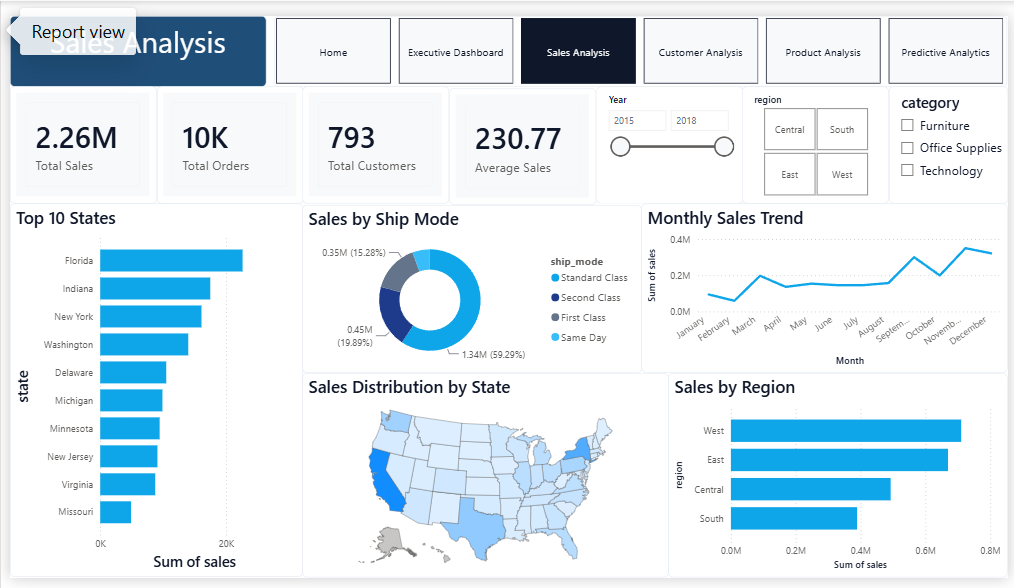

The dashboard page shown, as its layout file describes it:
{"tool":"powerbi","page":{"name":"Sales Analysis","canvas":[1280,720],"ordinal":2},"visuals":[{"type":"textbox","box":[0,0,328.6,90.9],"z":0},{"type":"pageNavigator","box":[339.2,0,940.3,90.9],"z":1000},{"type":"cardVisual","fields":{"Data":["public orders.Total Sales"]},"box":[0,90.9,187.8,149.9],"z":2000},{"type":"cardVisual","fields":{"Data":["public orders.Total Orders"]},"box":[187.8,90.9,187.8,149.9],"z":3000},{"type":"cardVisual","fields":{"Data":["public orders.Total Customers"]},"box":[375.5,90.9,187.8,149.9],"z":4000},{"type":"cardVisual","fields":{"Data":["public orders.Average Sales"]},"box":[563.3,92.4,187.8,149.9],"z":5000},{"type":"slicer","fields":{"Values":["public orders.order_date.Variation.Date Hierarchy.Year"]},"box":[751,90.9,187.8,149.9],"z":6000},{"type":"slicer","fields":{"Values":["public orders.region"]},"box":[938.8,90.9,187.8,149.9],"z":7000},{"type":"slicer","fields":{"Values":["public orders.category"]},"box":[1126.6,90.9,152.9,149.9],"z":8000},{"type":"clusteredBarChart","title":"Sales by Region","fields":{"Category":["public orders.region"],"Y":["Sum(public orders.sales)"]},"box":[844.9,457.3,434.6,262],"z":9000},{"type":"donutChart","title":"Sales by Ship Mode","fields":{"Category":["public orders.ship_mode"],"Y":["Sum(public orders.sales)"]},"box":[375.5,242.3,434.6,215],"z":10000},{"type":"lineChart","title":"Monthly Sales Trend","fields":{"Category":["public orders.order_date.Variation.Date Hierarchy.Month"],"Y":["Sum(public orders.sales)"]},"box":[810.1,240.8,469.4,216.5],"z":11000},{"type":"barChart","title":"Top 10 States","fields":{"Category":["public orders.state"],"Y":["Sum(public orders.sales)"]},"box":[0,240.8,375.5,478.5],"z":12000},{"type":"shapeMap","title":"Sales Distribution by State","fields":{"Value":["Sum(public orders.sales)"],"Category":["public orders.state"]},"box":[375.5,457.3,469.4,262],"z":13000}]}

Visuals, with their boxes on the page's 1280x720 design canvas (x1, y1, x2, y2). These are canvas units, not pixel positions in the 1014x588 screenshot, which may show the page scaled, cropped or inside an application window:
textbox: Rect(0, 0, 329, 91)
pageNavigator: Rect(339, 0, 1280, 91)
cardVisual - public orders.Total Sales: Rect(0, 91, 188, 241)
cardVisual - public orders.Total Orders: Rect(188, 91, 376, 241)
cardVisual - public orders.Total Customers: Rect(376, 91, 563, 241)
cardVisual - public orders.Average Sales: Rect(563, 92, 751, 242)
slicer - public orders.order_date.Variation.Date Hierarchy.Year: Rect(751, 91, 939, 241)
slicer - public orders.region: Rect(939, 91, 1127, 241)
slicer - public orders.category: Rect(1127, 91, 1280, 241)
"Sales by Region" clusteredBarChart: Rect(845, 457, 1280, 719)
"Sales by Ship Mode" donutChart: Rect(376, 242, 810, 457)
"Monthly Sales Trend" lineChart: Rect(810, 241, 1280, 457)
"Top 10 States" barChart: Rect(0, 241, 376, 719)
"Sales Distribution by State" shapeMap: Rect(376, 457, 845, 719)
